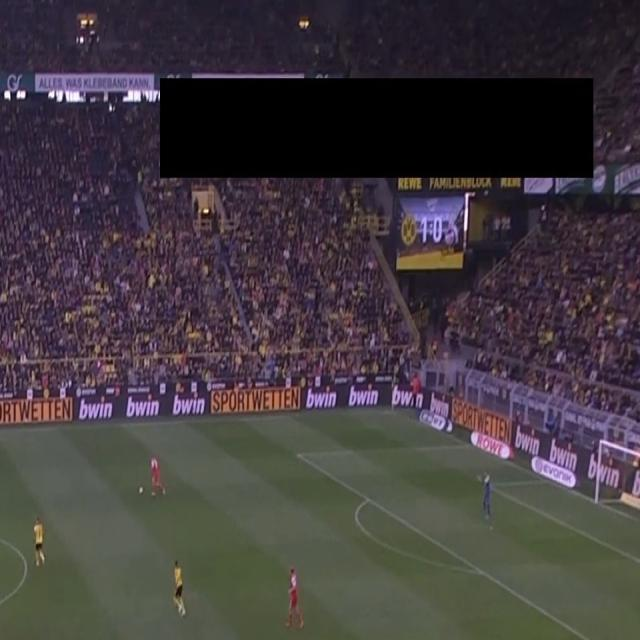ball: (138, 485, 144, 495)
